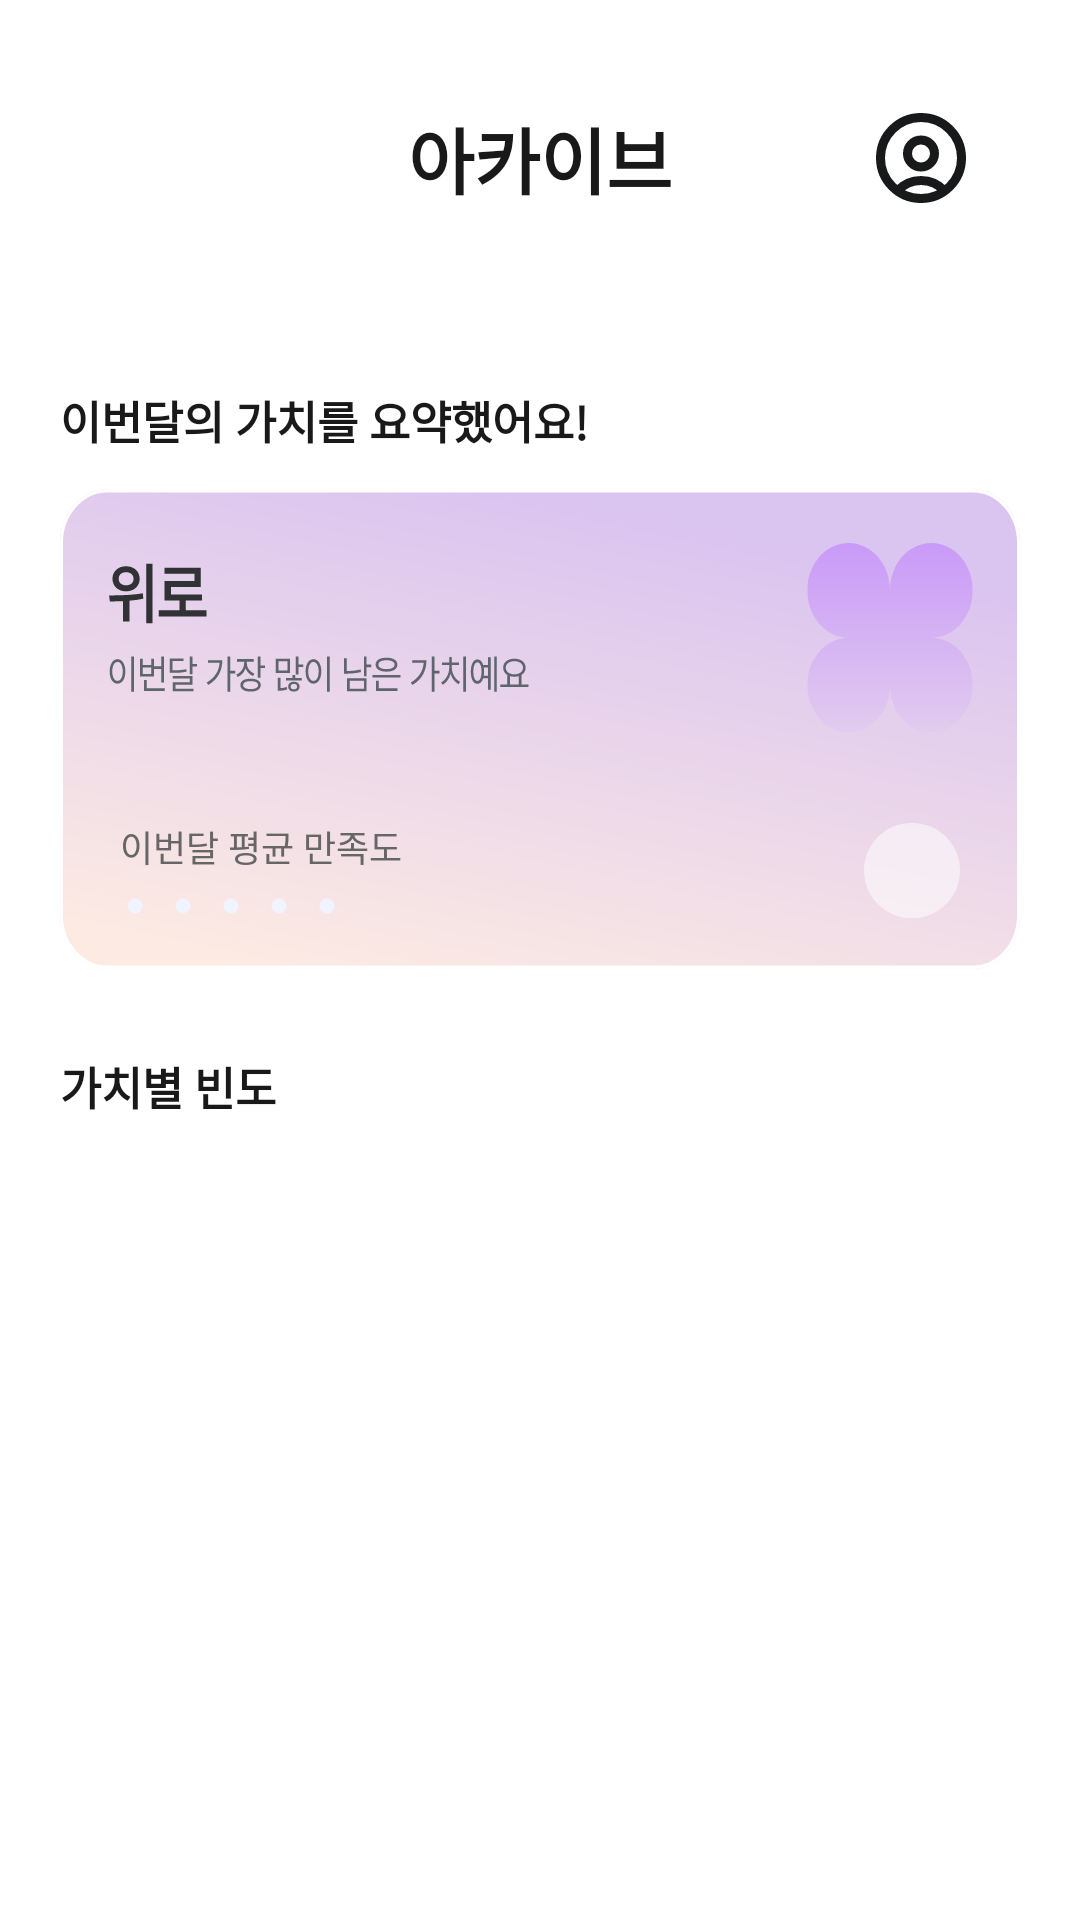

Where to tap for icons on this 1080w x 1920h app screen, as [x,y]:
프로필: [921,158]
